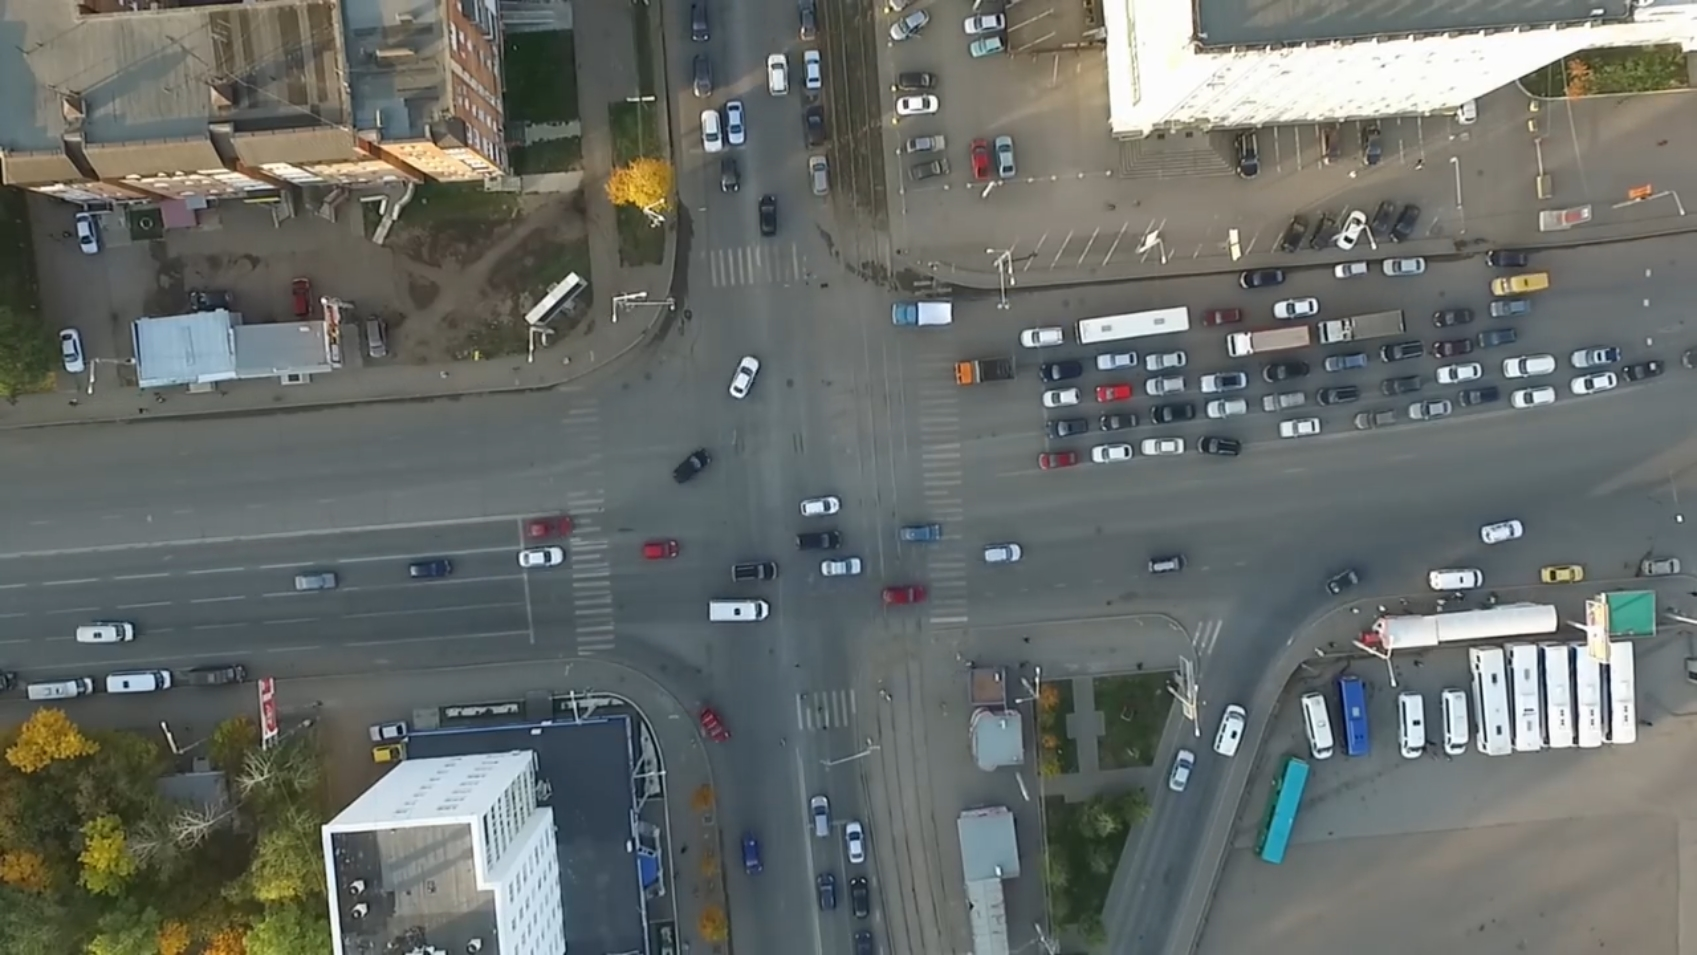car: (1467, 644, 1514, 757), (1068, 306, 1197, 342), (1504, 640, 1544, 752), (1536, 642, 1575, 747), (1599, 645, 1639, 745), (1317, 311, 1411, 345), (1571, 641, 1601, 745), (1339, 674, 1373, 759), (1225, 326, 1311, 357), (1395, 689, 1431, 761), (1296, 694, 1338, 756), (1487, 265, 1552, 297), (103, 666, 176, 694), (894, 300, 964, 328), (1441, 686, 1469, 754), (883, 9, 936, 45), (953, 354, 1018, 384), (1214, 701, 1247, 758), (692, 704, 735, 745), (668, 448, 714, 485), (1425, 566, 1485, 594), (1500, 351, 1558, 379), (184, 662, 245, 689), (1233, 131, 1266, 180), (24, 679, 100, 700), (697, 106, 728, 155), (726, 354, 758, 401), (707, 601, 773, 623), (513, 543, 566, 570), (1379, 252, 1429, 280), (1508, 384, 1559, 410), (1569, 344, 1622, 370), (1570, 370, 1621, 396), (362, 315, 392, 361), (1477, 519, 1523, 548), (1538, 560, 1590, 585), (56, 330, 86, 373), (690, 55, 718, 101), (1360, 125, 1389, 169), (1019, 324, 1066, 351), (1477, 323, 1525, 350), (1335, 208, 1365, 250), (739, 829, 767, 875), (1260, 389, 1311, 414), (800, 103, 828, 147), (73, 622, 132, 642), (1196, 431, 1241, 458), (756, 191, 783, 237), (73, 212, 101, 255), (1166, 749, 1193, 792), (1323, 351, 1372, 375), (962, 10, 1011, 35), (765, 50, 789, 99), (1235, 266, 1287, 289), (1038, 357, 1085, 382), (1274, 415, 1325, 438), (1281, 212, 1309, 254), (1090, 442, 1138, 466), (1407, 395, 1455, 420), (1149, 401, 1199, 424), (1393, 201, 1420, 244), (981, 542, 1026, 568), (1323, 568, 1360, 598), (1319, 125, 1346, 167), (812, 871, 842, 910), (523, 517, 571, 540), (293, 569, 338, 594), (1435, 361, 1485, 384), (364, 719, 414, 742), (1270, 299, 1321, 321), (969, 136, 994, 180), (795, 493, 838, 519), (1093, 349, 1140, 372), (895, 69, 939, 93), (1034, 449, 1085, 470), (1090, 380, 1135, 403), (1200, 304, 1248, 326), (1140, 435, 1188, 457), (966, 35, 1009, 59), (1197, 374, 1256, 392), (406, 557, 452, 580), (1485, 247, 1531, 269), (895, 93, 944, 114), (808, 153, 830, 198), (817, 555, 862, 577), (1368, 197, 1392, 240), (1432, 335, 1476, 358), (796, 531, 839, 554), (1378, 340, 1425, 361), (1378, 375, 1425, 396), (1490, 296, 1530, 321), (1263, 360, 1310, 381), (1353, 408, 1400, 429), (810, 796, 831, 843), (896, 522, 943, 543), (801, 51, 825, 91), (1043, 385, 1080, 410), (851, 876, 873, 919), (733, 563, 779, 584), (1140, 375, 1188, 395), (725, 97, 745, 145), (293, 275, 314, 319), (1431, 308, 1476, 329), (1097, 412, 1143, 431), (1204, 399, 1251, 419), (1456, 387, 1502, 407), (1619, 360, 1666, 380), (1639, 556, 1682, 577), (1314, 210, 1336, 251), (640, 538, 681, 560), (909, 159, 955, 178), (1044, 417, 1090, 437), (997, 135, 1018, 177), (1318, 384, 1360, 405), (369, 744, 411, 765), (1145, 350, 1189, 370), (902, 134, 948, 153), (1145, 556, 1187, 576), (879, 585, 925, 603), (721, 155, 741, 195), (1330, 260, 1369, 279), (797, 7, 816, 45), (691, 1, 709, 42), (846, 822, 862, 862), (853, 929, 876, 955), (1458, 99, 1478, 125), (1680, 347, 1697, 370)
